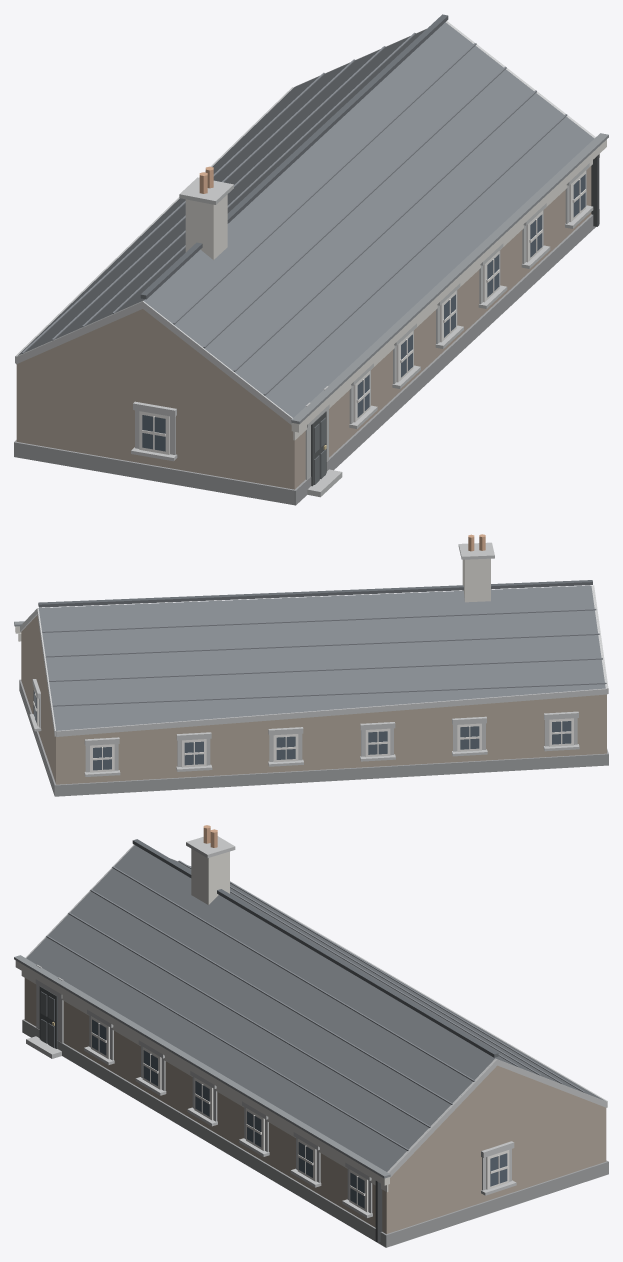
3 views of the same model, one above another, from view 1: azimuth 30°, elevation 25°; view 2: azimuth 150°, elevation 25°; view 3: azimuth 270°, elevation 25° (orthographic). The views are drawn at different scales.
Parts seen in each view (by area): view 1: slate, harl_brown, stone_band, plinth, slate_lt, lead, string, slate_dk, frame, chim_render, window_glass_014; view 2: slate, harl_brown, stone_band, plinth, slate_lt, slate_dk, frame, chim_render, window_glass_011, window_glass_012, window_glass_010, window_glass_013 (+2 smaller); view 3: slate, harl_brown, stone_band, plinth, slate_lt, string, lead, slate_dk, frame, chim_render, door_dark_p.
Boxes of the visible parts, <box> form: slate: <box>18,22,594,417</box>; harl_brown: <box>16,166,591,489</box>; stone_band: <box>15,21,595,497</box>; plinth: <box>14,209,599,505</box>; slate_lt: <box>21,32,567,395</box>; lead: <box>291,133,608,424</box>; string: <box>291,139,606,440</box>; slate_dk: <box>140,14,448,299</box>; frame: <box>139,170,586,454</box>; chim_render: <box>185,194,227,259</box>; window_glass_014: <box>142,415,165,451</box>; slate: <box>38,585,605,730</box>; harl_brown: <box>21,615,606,784</box>; stone_band: <box>20,542,608,776</box>; plinth: <box>19,679,608,796</box>; slate_lt: <box>42,608,606,706</box>; slate_dk: <box>38,580,592,607</box>; frame: <box>33,689,573,772</box>; chim_render: <box>462,558,490,602</box>; window_glass_011: <box>368,731,387,754</box>; window_glass_012: <box>460,726,479,749</box>; window_glass_010: <box>276,736,295,759</box>; window_glass_013: <box>552,721,571,744</box>; slate: <box>26,845,604,1171</box>; harl_brown: <box>24,978,606,1233</box>; stone_band: <box>25,836,607,1217</box>; plinth: <box>22,1019,608,1247</box>; slate_lt: <box>46,860,584,1150</box>; string: <box>15,960,389,1192</box>; lead: <box>14,955,390,1178</box>; slate_dk: <box>132,839,498,1057</box>; frame: <box>91,1016,509,1212</box>; chim_render: <box>191,849,229,904</box>; door_dark_p: <box>40,991,54,1048</box>.
Bounding box in the file's own units: 21.97 × 7.6 × 19.29.
